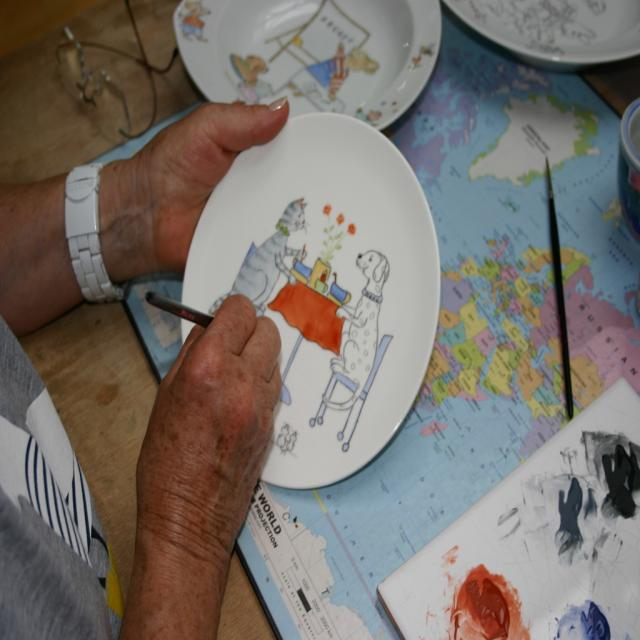ceramic plate: (172, 114, 432, 470), (162, 0, 462, 120)
